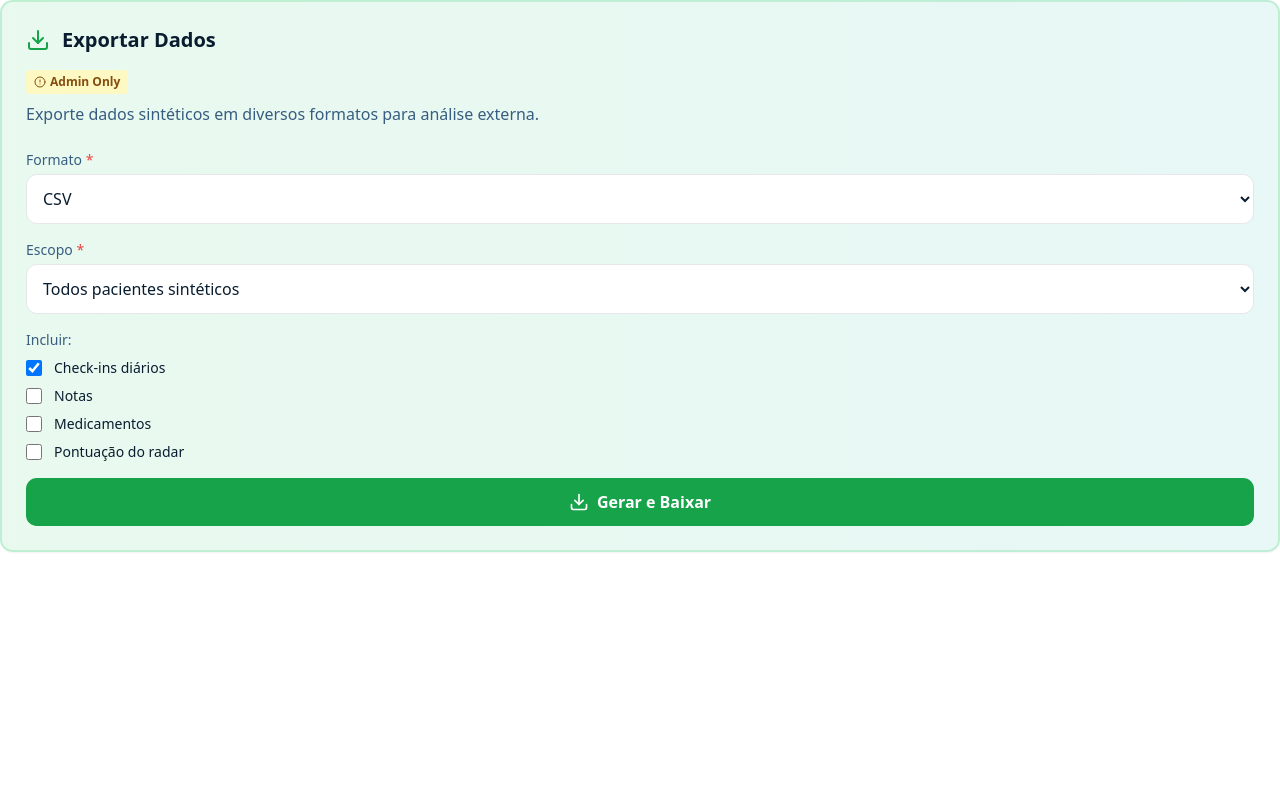
Test: ExportData › should show conditional quantity input when scope is last_n
Expected: the field labelled "Quantidade" is not shown
Select "Últimos N" in the dropdown labelled "Escopo *" at [640, 289], box [26, 264, 1254, 314]
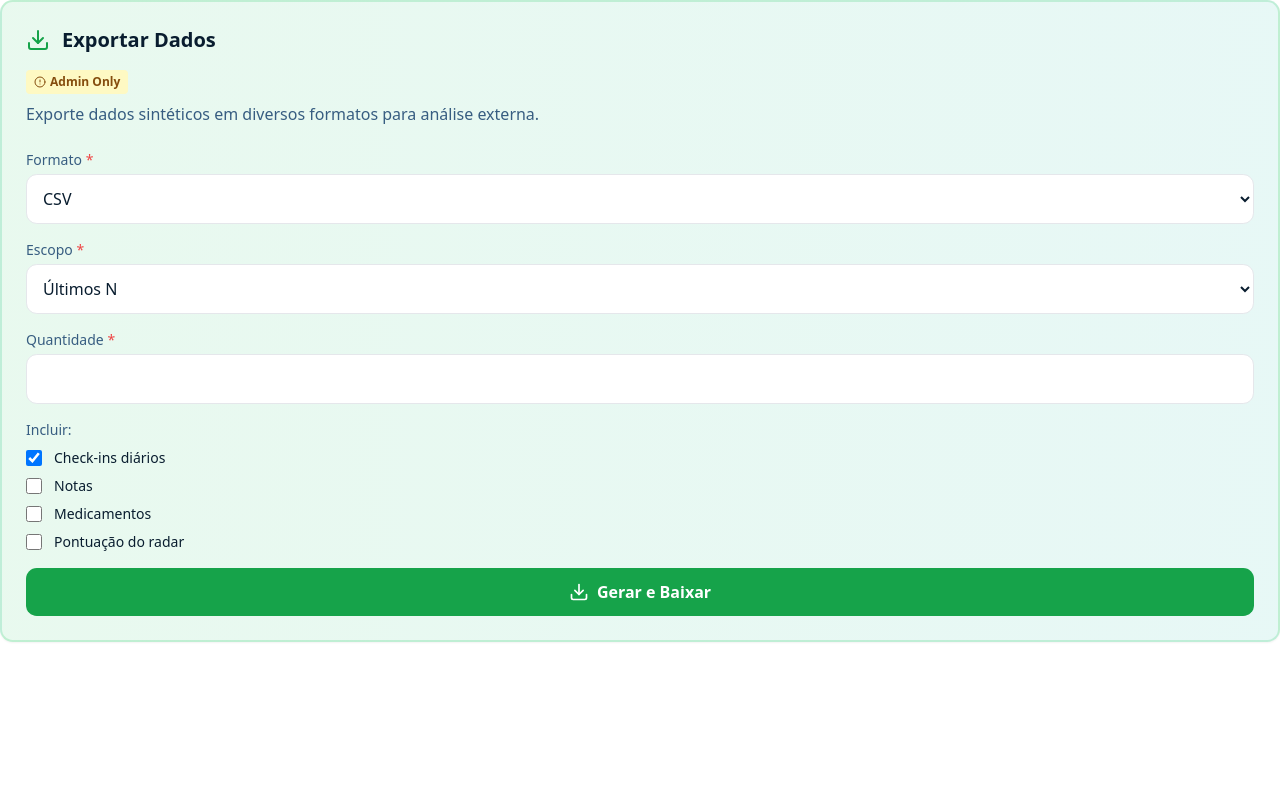
Expected: the number field labelled "Quantidade *" is shown, [26, 354, 1254, 404]
